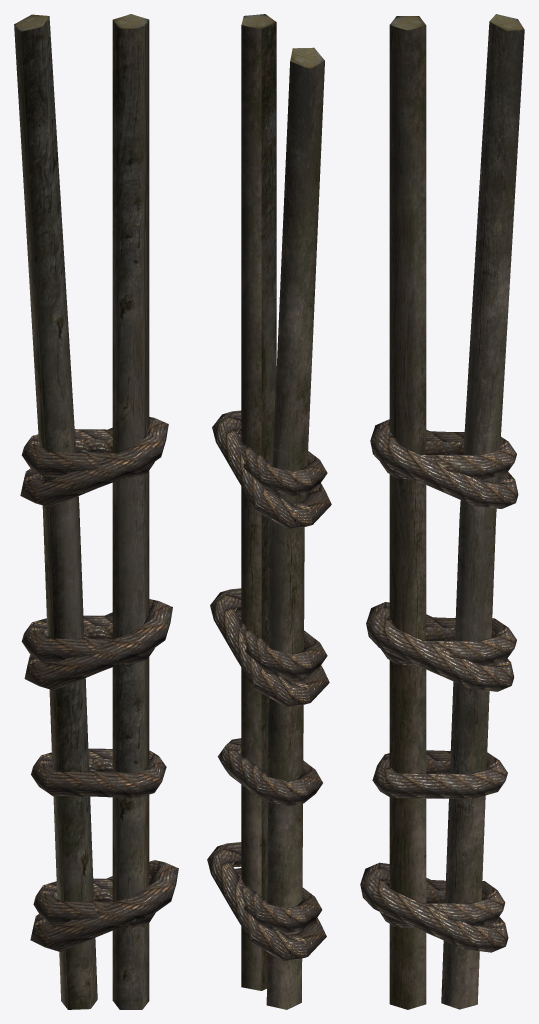
File: 02_05_fence_pole.DAE
3 renders of one model, left to right at view 1: azimuth 90°, elevation 25°; view 2: azimuth 210°, elevation 25°; view 3: azimuth 270°, elevation 25°, orthographic.
Visible parts, largest first — view 1: Cylinder023; view 2: Cylinder023; view 3: Cylinder023.
Boxes of the visible parts, box(x1,y1,x2,y2) form: Cylinder023: box(14, 14, 178, 1009); Cylinder023: box(207, 14, 331, 1009); Cylinder023: box(360, 14, 524, 1009).
Size of the model in its own units: 0.1531 by 1.89 by 0.2865.
